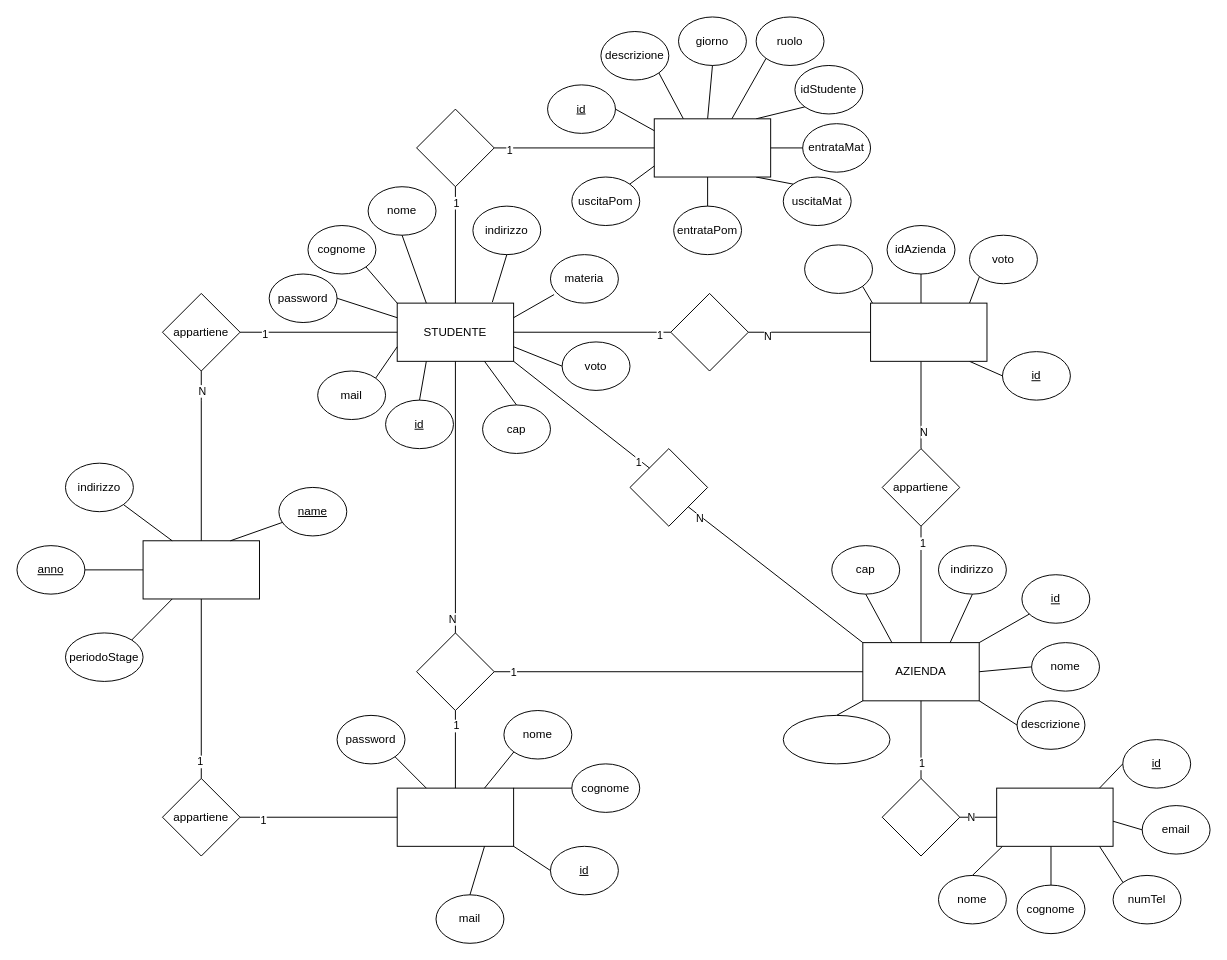
The diagram is 1227 pixels wide and 960 high, and some of its shapes have lost their labels. Here are the shapes that lost their labels. From the top down, the centre of each, then its label:
the point at 455,147: compila
the point at 712,147: DIARIO
the point at 838,268: commento
the point at 709,331: scrive
the point at 928,331: RECENSIONE
the point at 668,487: preferisce
the point at 200,569: CLASSE
the point at 455,671: assegna
the point at 836,739: specializzazione
the point at 455,816: AMMINISTRATORE
the point at 920,816: ha
the point at 1054,816: TUTOR
